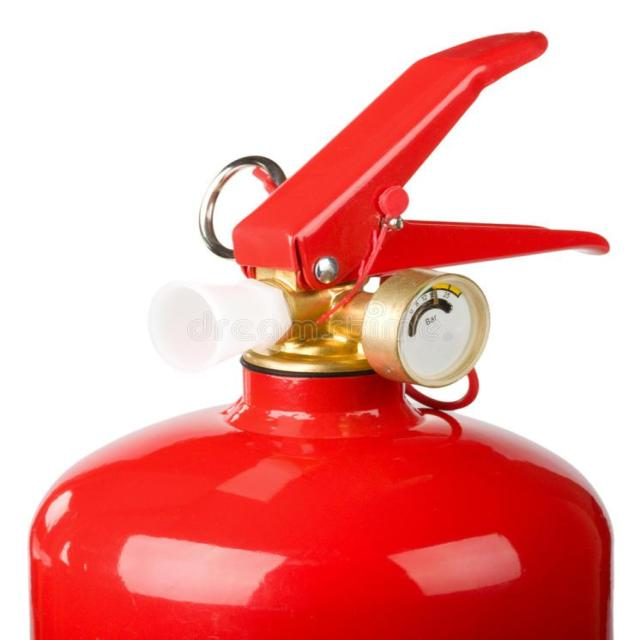fire_extinguisher: (17, 26, 621, 639)
